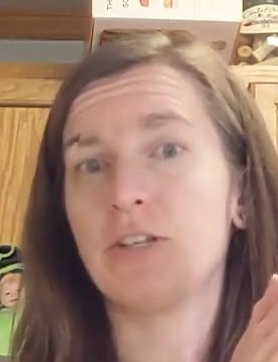eb_f: (61, 108, 205, 183)
